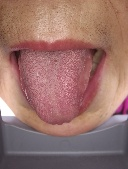tongue: (16, 54, 93, 126)
